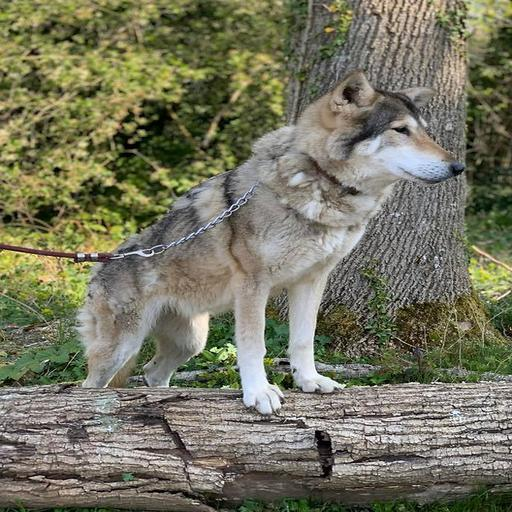Wolf: (69, 67, 471, 445)
